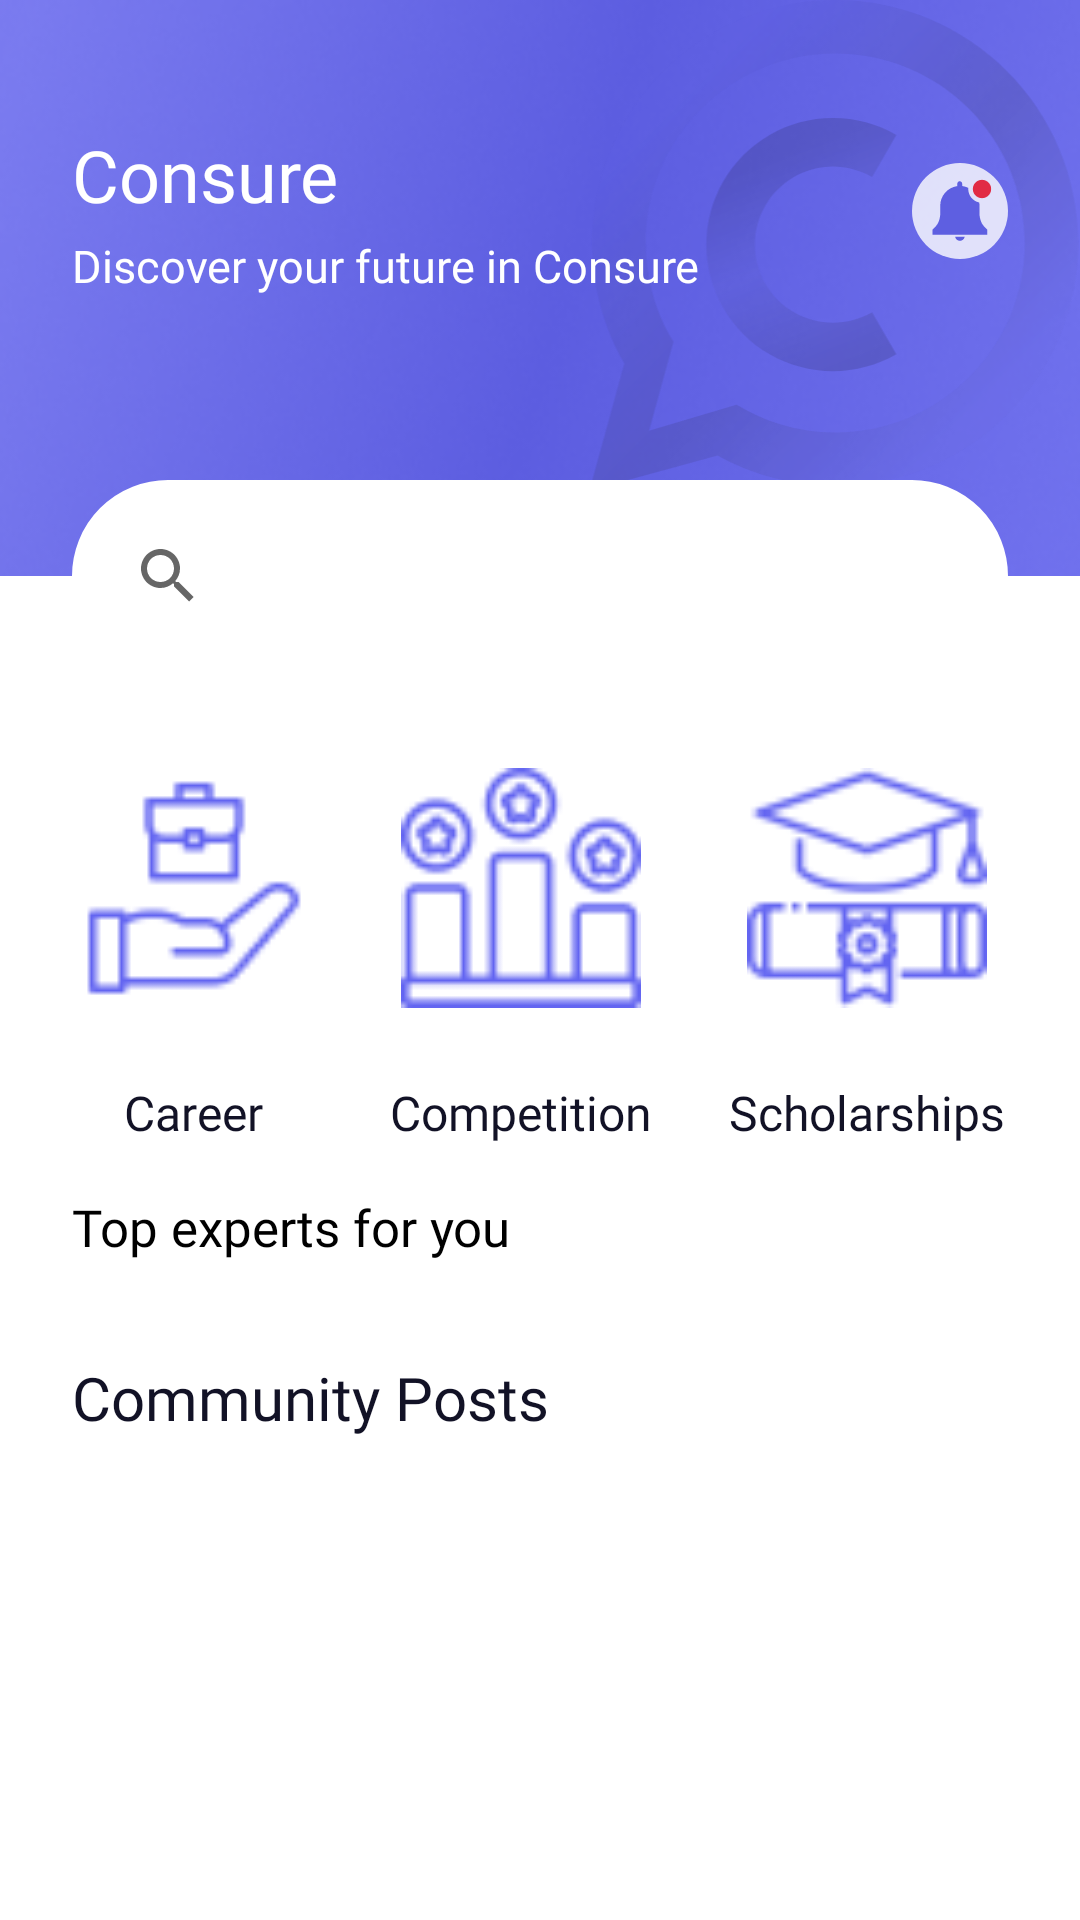

Icon click points for this 1080px x 1920px phone screenshot, format point (x, y):
notif on: point (960, 211)
